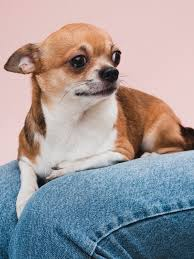chihuahua: (1, 11, 192, 219)
